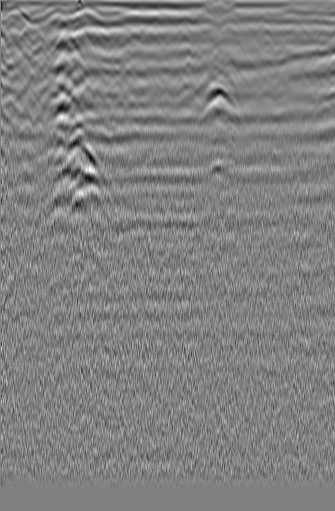가스: (205, 156, 235, 187)
상수: (13, 69, 47, 101)
오수: (275, 17, 312, 52)
우수: (115, 55, 147, 94)
